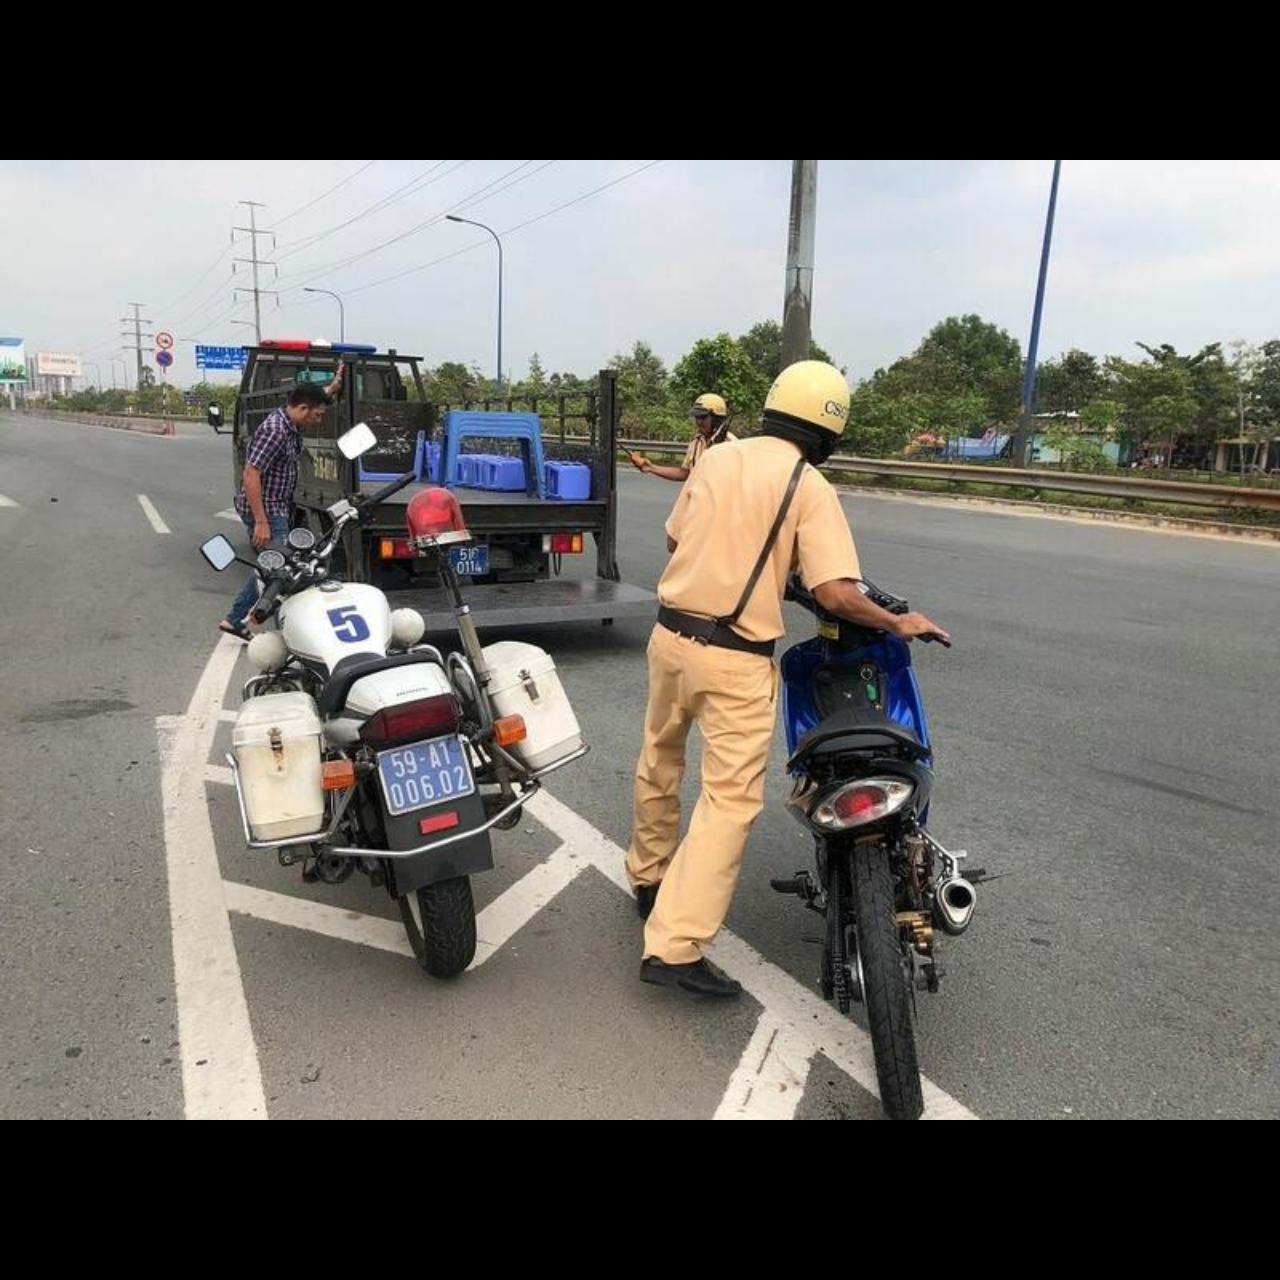bienso: (376, 732, 476, 816), (449, 545, 489, 575)
